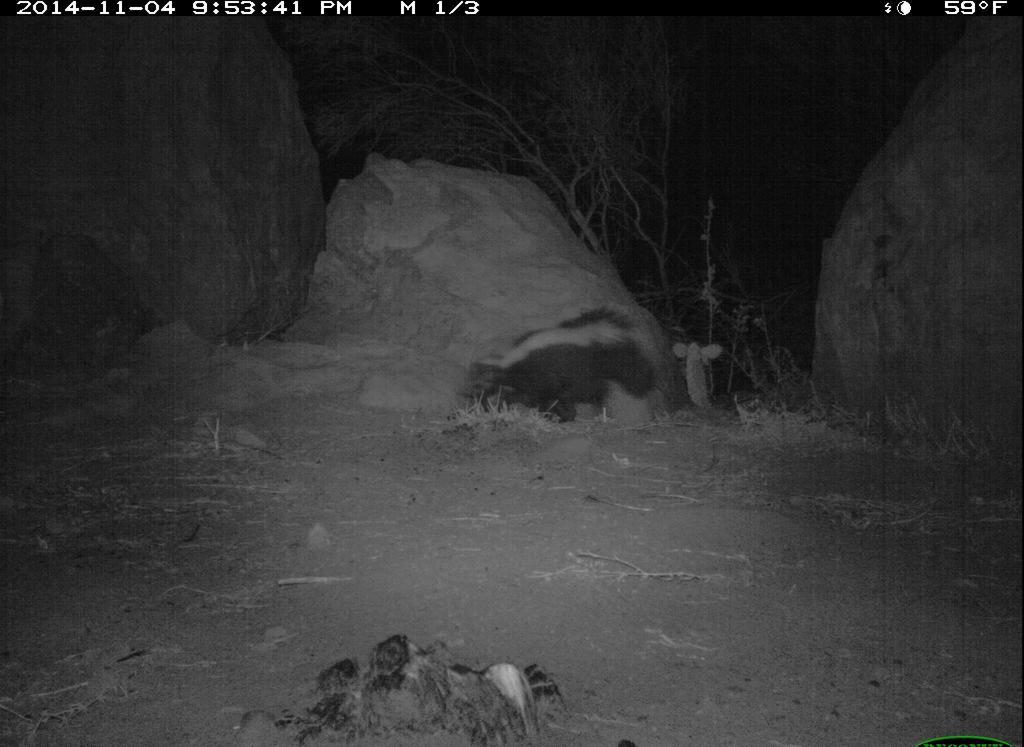skunk: (446, 272, 670, 450)
